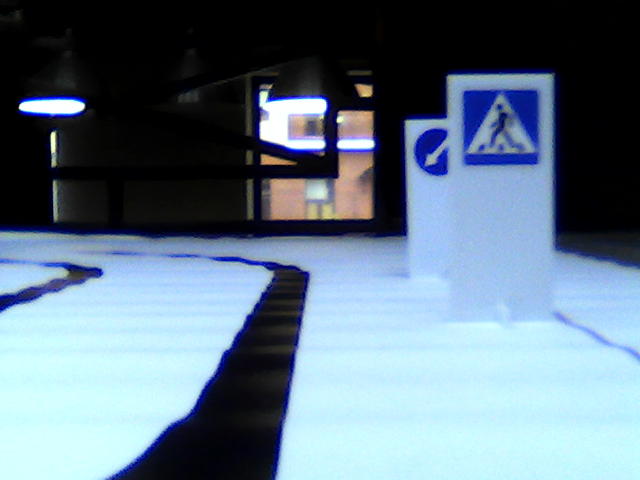pesh: (462, 87, 539, 165)
prep: (413, 126, 450, 176)
